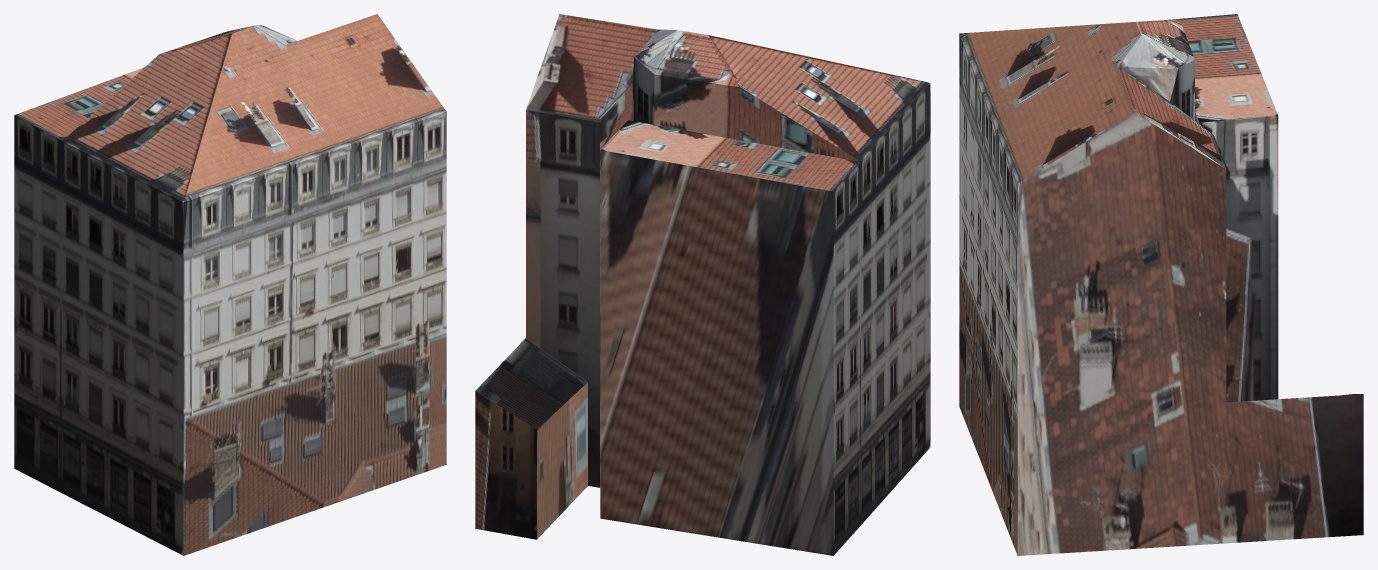
The picture shows the model from 3 angles, left to right: view 1: azimuth 30°, elevation 25°; view 2: azimuth 150°, elevation 25°; view 3: azimuth 270°, elevation 25°; orthographic projection. The views are drawn at different scales.
Visible parts, largest first — view 1: Z_UP; view 2: Z_UP; view 3: Z_UP.
Boxes of the visible parts, box(x1,y1,x2,y2) form: Z_UP: box(14, 14, 446, 555); Z_UP: box(475, 14, 930, 555); Z_UP: box(959, 14, 1363, 555).
Bounding box in the file's own units: 22.44 × 28.01 × 22.7.
2 materials, 1 textured.
